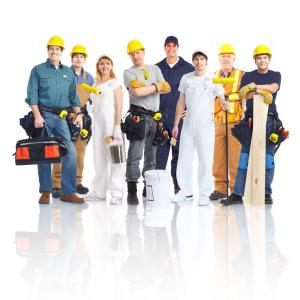blue: (165, 37, 180, 60)
white: (97, 53, 116, 78), (192, 49, 209, 72)
yellow: (126, 40, 147, 67), (253, 45, 273, 71), (219, 44, 238, 71), (47, 37, 65, 64), (71, 45, 88, 69)
